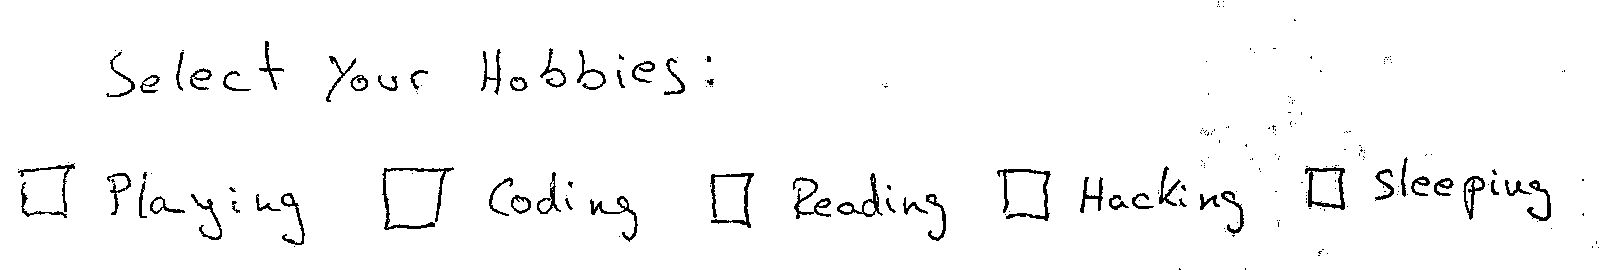Check Box: (12, 156, 316, 252), (378, 158, 647, 246), (1300, 152, 1557, 240), (990, 158, 1251, 238), (704, 165, 955, 246)
